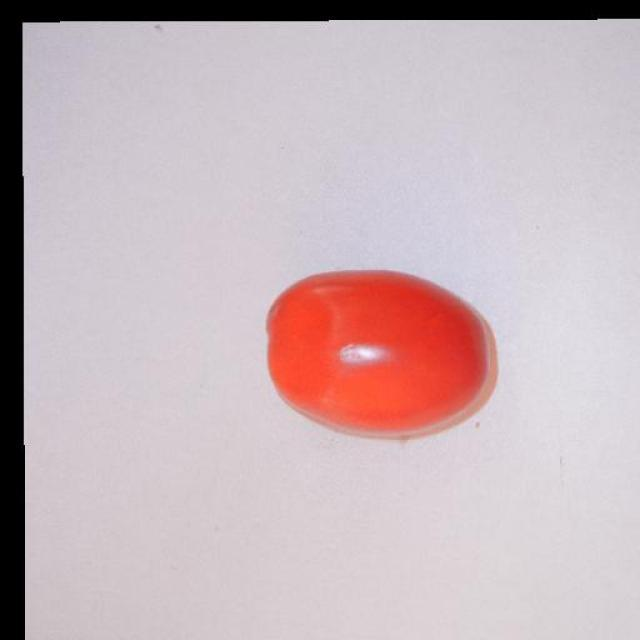Fresh Tomato: (249, 230, 504, 477)
